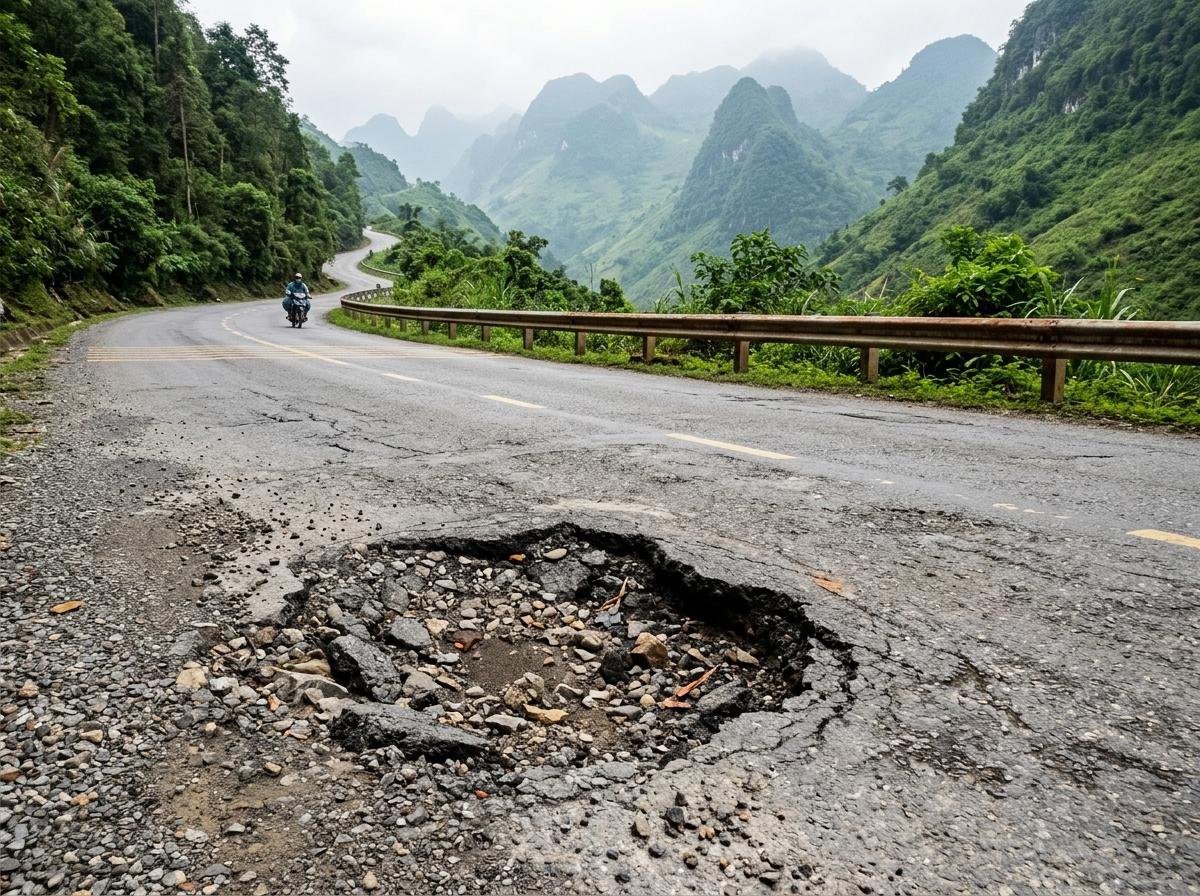POTHOLE: (336, 426, 840, 739)
